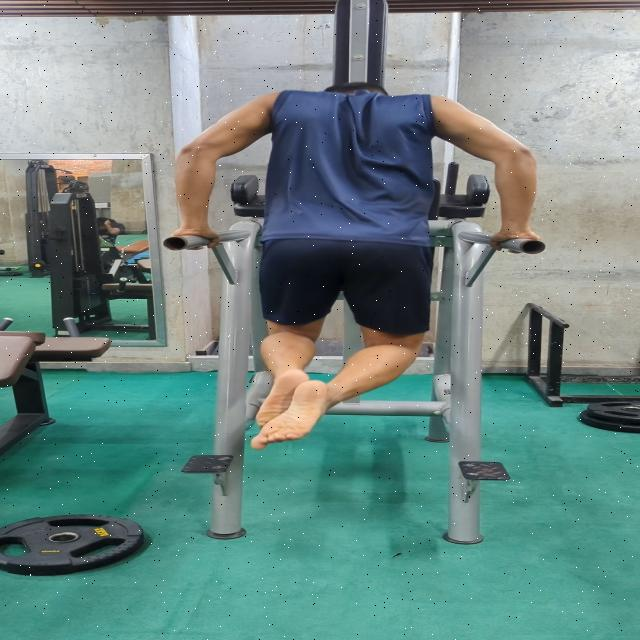Normal_Dips: (157, 75, 551, 453)
